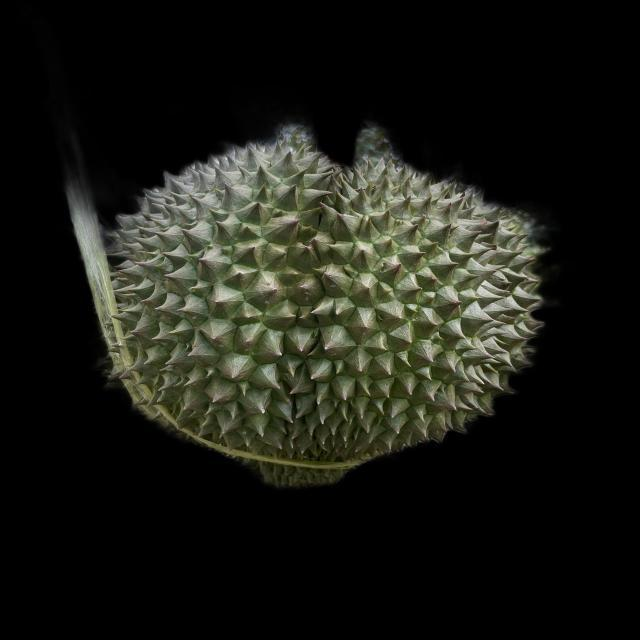immature: (121, 141, 541, 485)
